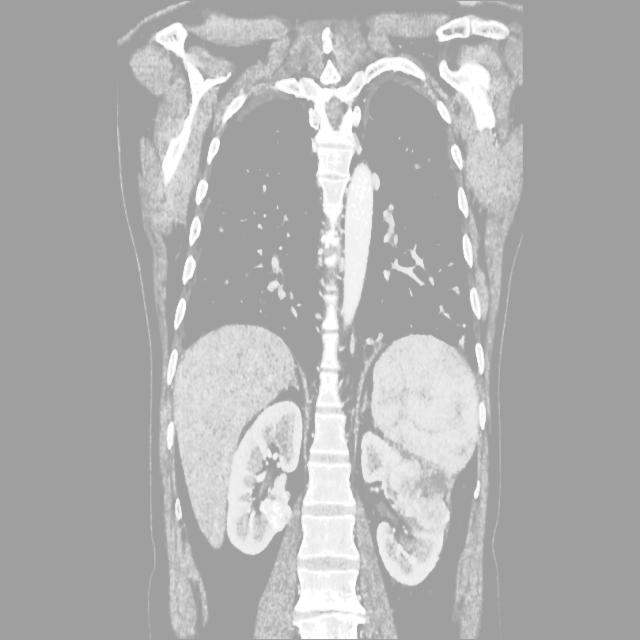TUMOR: (117, 315, 555, 563)
